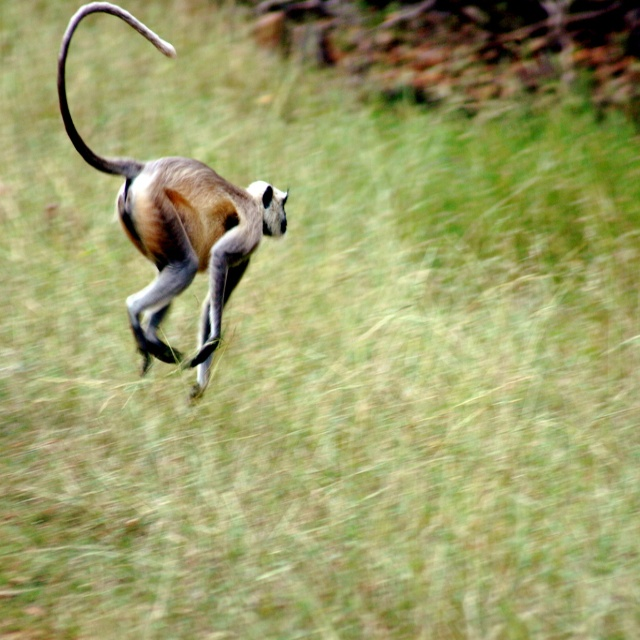Monkey: (62, 35, 287, 390)
